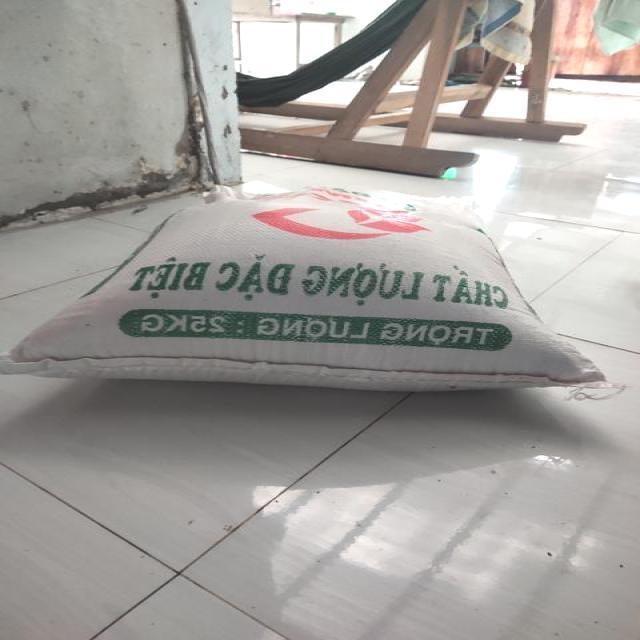gunny_bag: (0, 187, 607, 392)
